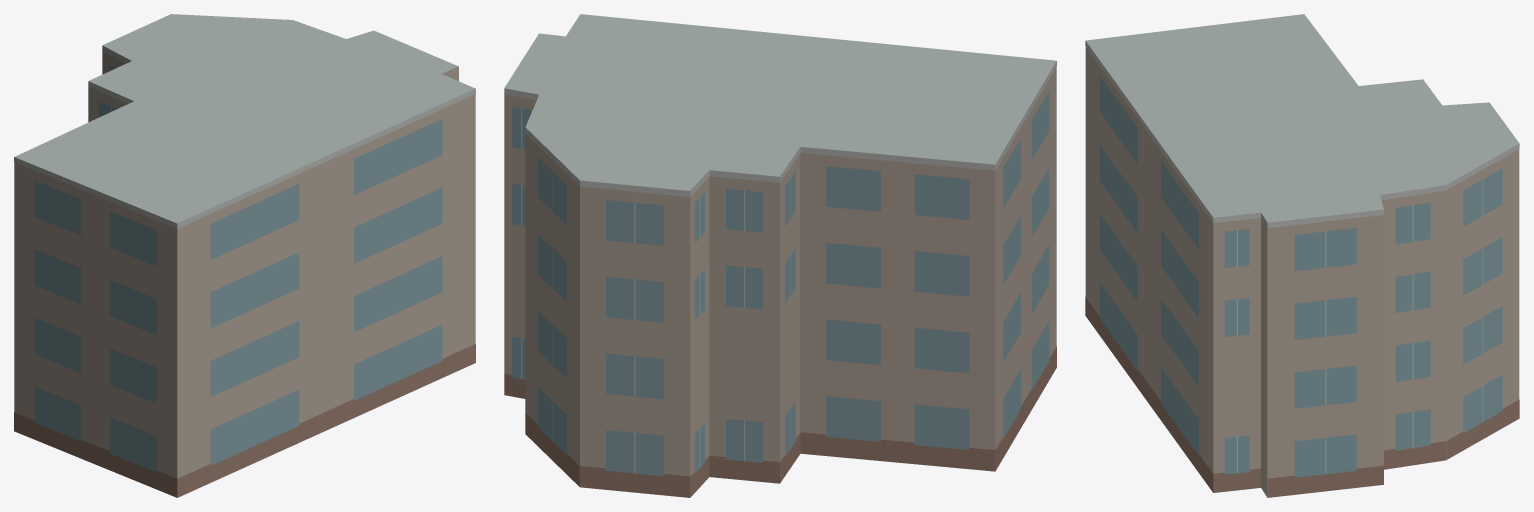
The model's file is survey-upis-32690762.glb.
3 renders of one model, left to right at view 1: azimuth 30°, elevation 25°; view 2: azimuth 150°, elevation 25°; view 3: azimuth 270°, elevation 25°, orthographic. The views are drawn at different scales.
Parts seen in each view (by area): view 1: survey-upis-32690762.tmp; view 2: survey-upis-32690762.tmp; view 3: survey-upis-32690762.tmp.
Part boxes in pixels (x1,y1,x2,y2): survey-upis-32690762.tmp: (14, 14, 475, 497); survey-upis-32690762.tmp: (504, 14, 1056, 497); survey-upis-32690762.tmp: (1085, 14, 1519, 497).
Bounding box in the file's own units: 20.17 × 12.4 × 17.73.
